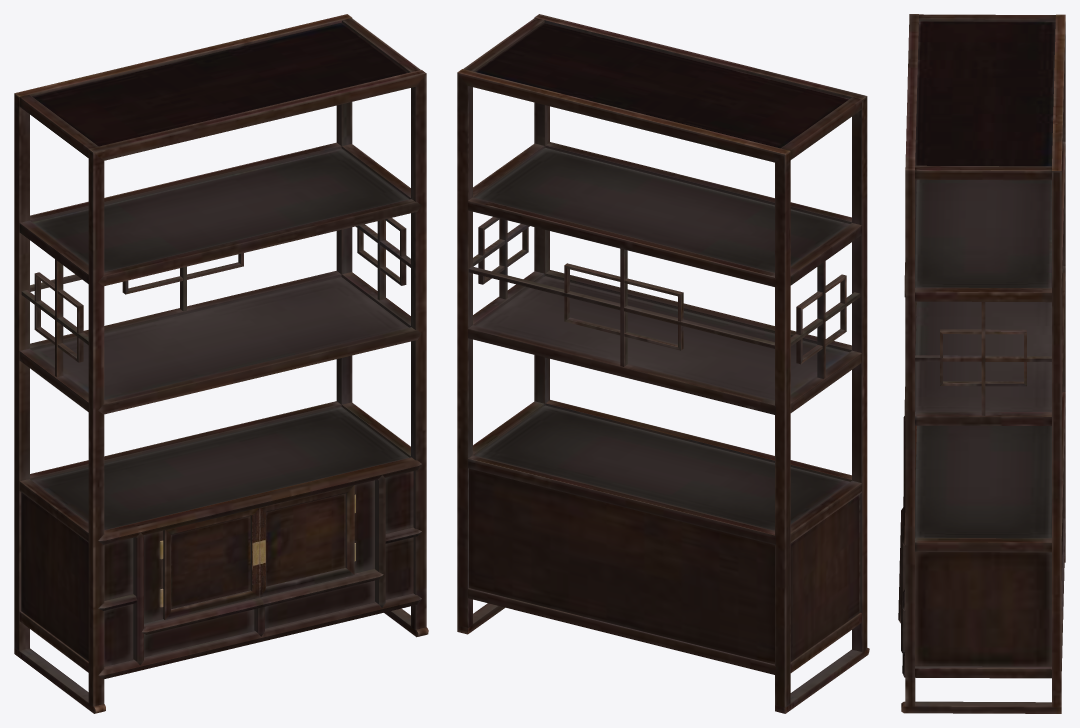
Rendered from bookcase.glb.
The picture shows the model from 3 angles, left to right: view 1: azimuth 30°, elevation 25°; view 2: azimuth 150°, elevation 25°; view 3: azimuth 270°, elevation 25°; orthographic projection. The views are drawn at different scales.
Visible parts, largest first — view 1: Masters_shelfB_LP_lambert1_0; view 2: Masters_shelfB_LP_lambert1_0; view 3: Masters_shelfB_LP_lambert1_0.
Boxes of the visible parts, bbox=[...] form: Masters_shelfB_LP_lambert1_0: bbox=[14, 14, 428, 713]; Masters_shelfB_LP_lambert1_0: bbox=[457, 14, 869, 713]; Masters_shelfB_LP_lambert1_0: bbox=[898, 14, 1065, 713].
Bounding box in the file's own units: 1.18 × 1.9 × 0.5308.
Materials: 1 (1 with a texture image).
